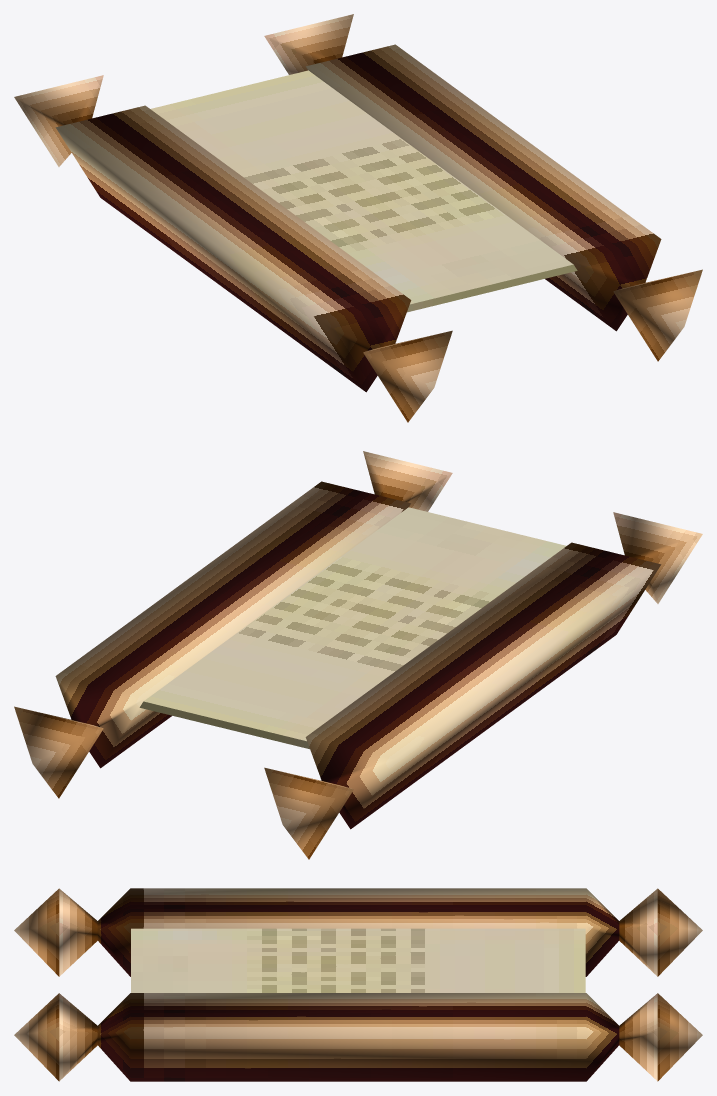
The model's file is Scroll01.glb.
3 views of the same model, one above another, from view 1: azimuth 30°, elevation 25°; view 2: azimuth 150°, elevation 25°; view 3: azimuth 270°, elevation 25° (orthographic). The views are drawn at different scales.
Parts seen in each view (by area): view 1: model_Scroll01; view 2: model_Scroll01; view 3: model_Scroll01.
Part boxes in pixels (box(x1,y1,x2,y2)): model_Scroll01: box(14, 14, 702, 422); model_Scroll01: box(14, 451, 702, 859); model_Scroll01: box(14, 888, 702, 1081).
Size of the model in its own units: 0.2664 by 0.061 by 0.5453.
Materials: 1 (1 with a texture image).
